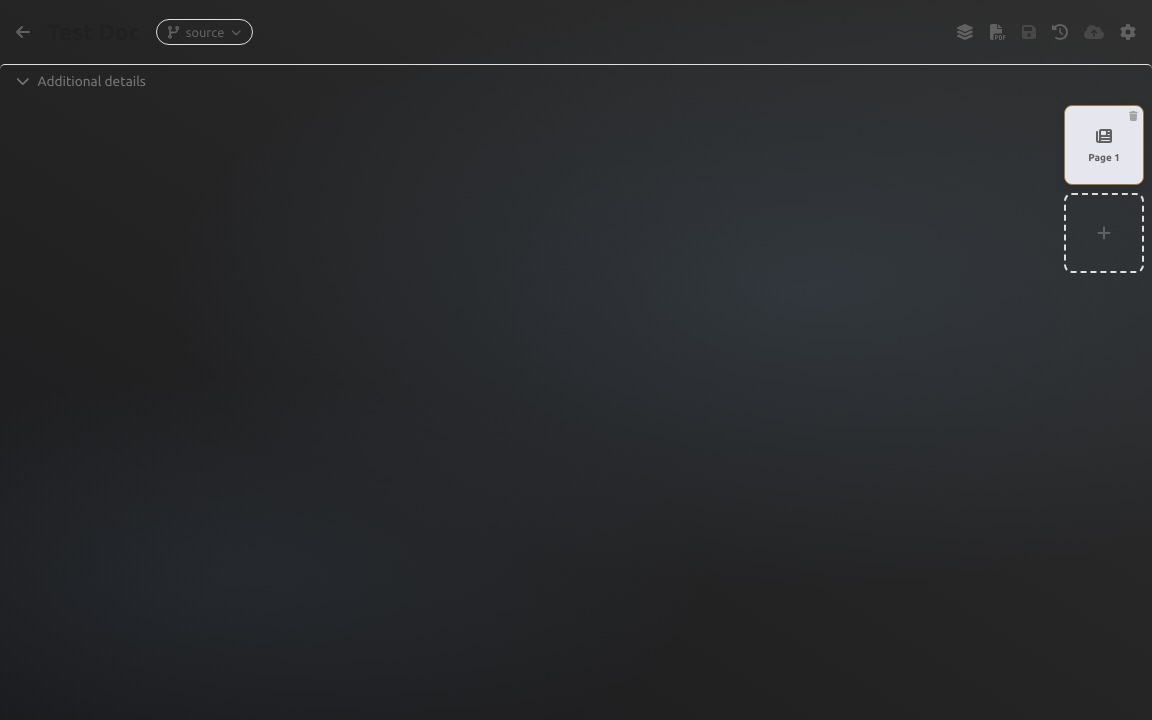
SpellEditForm › versions › shows the chronicle of the current version, newest first
Expected: the element with test id "spell-edit-form" is shown, [0, 18, 1151, 273]
Click the button with test id "spell-edit-chronicle-btn" at (1060, 32), box [1052, 24, 1068, 40]
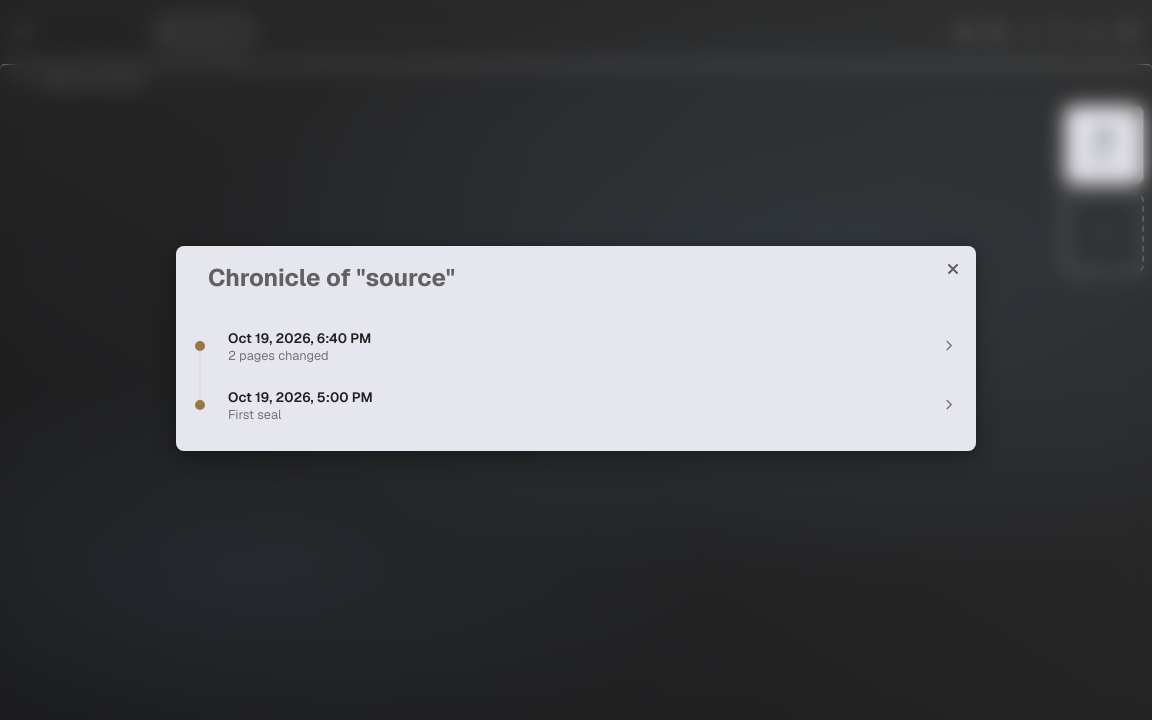
Now the number of list items with test id "chronicle-item" is 2, box [192, 316, 960, 376]; [192, 376, 960, 434]
Now the list item with test id "chronicle-item" shows "2 pages changed", box [220, 324, 960, 368]
Now the list item with test id "chronicle-item" shows "First seal", box [220, 384, 960, 426]
